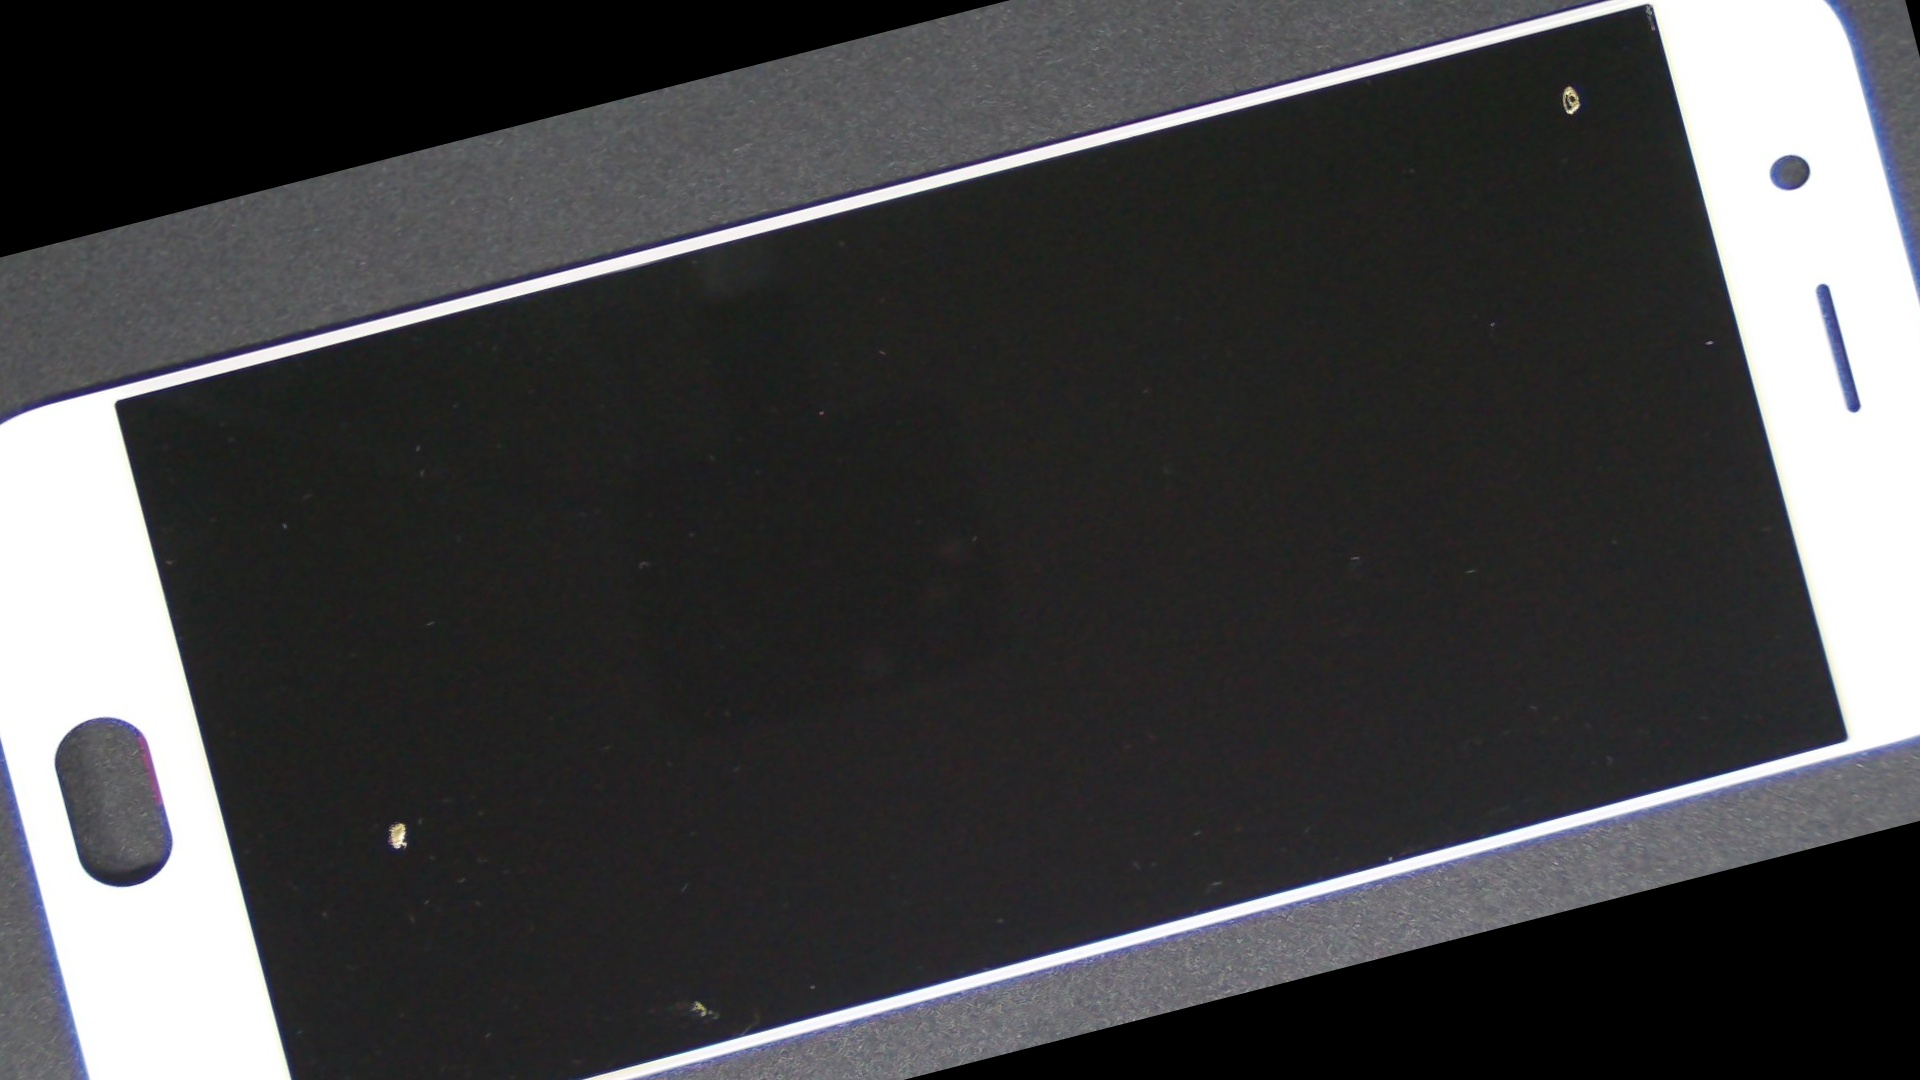oil: (682, 0, 1920, 411), (245, 481, 1064, 1080), (96, 452, 695, 1080)
